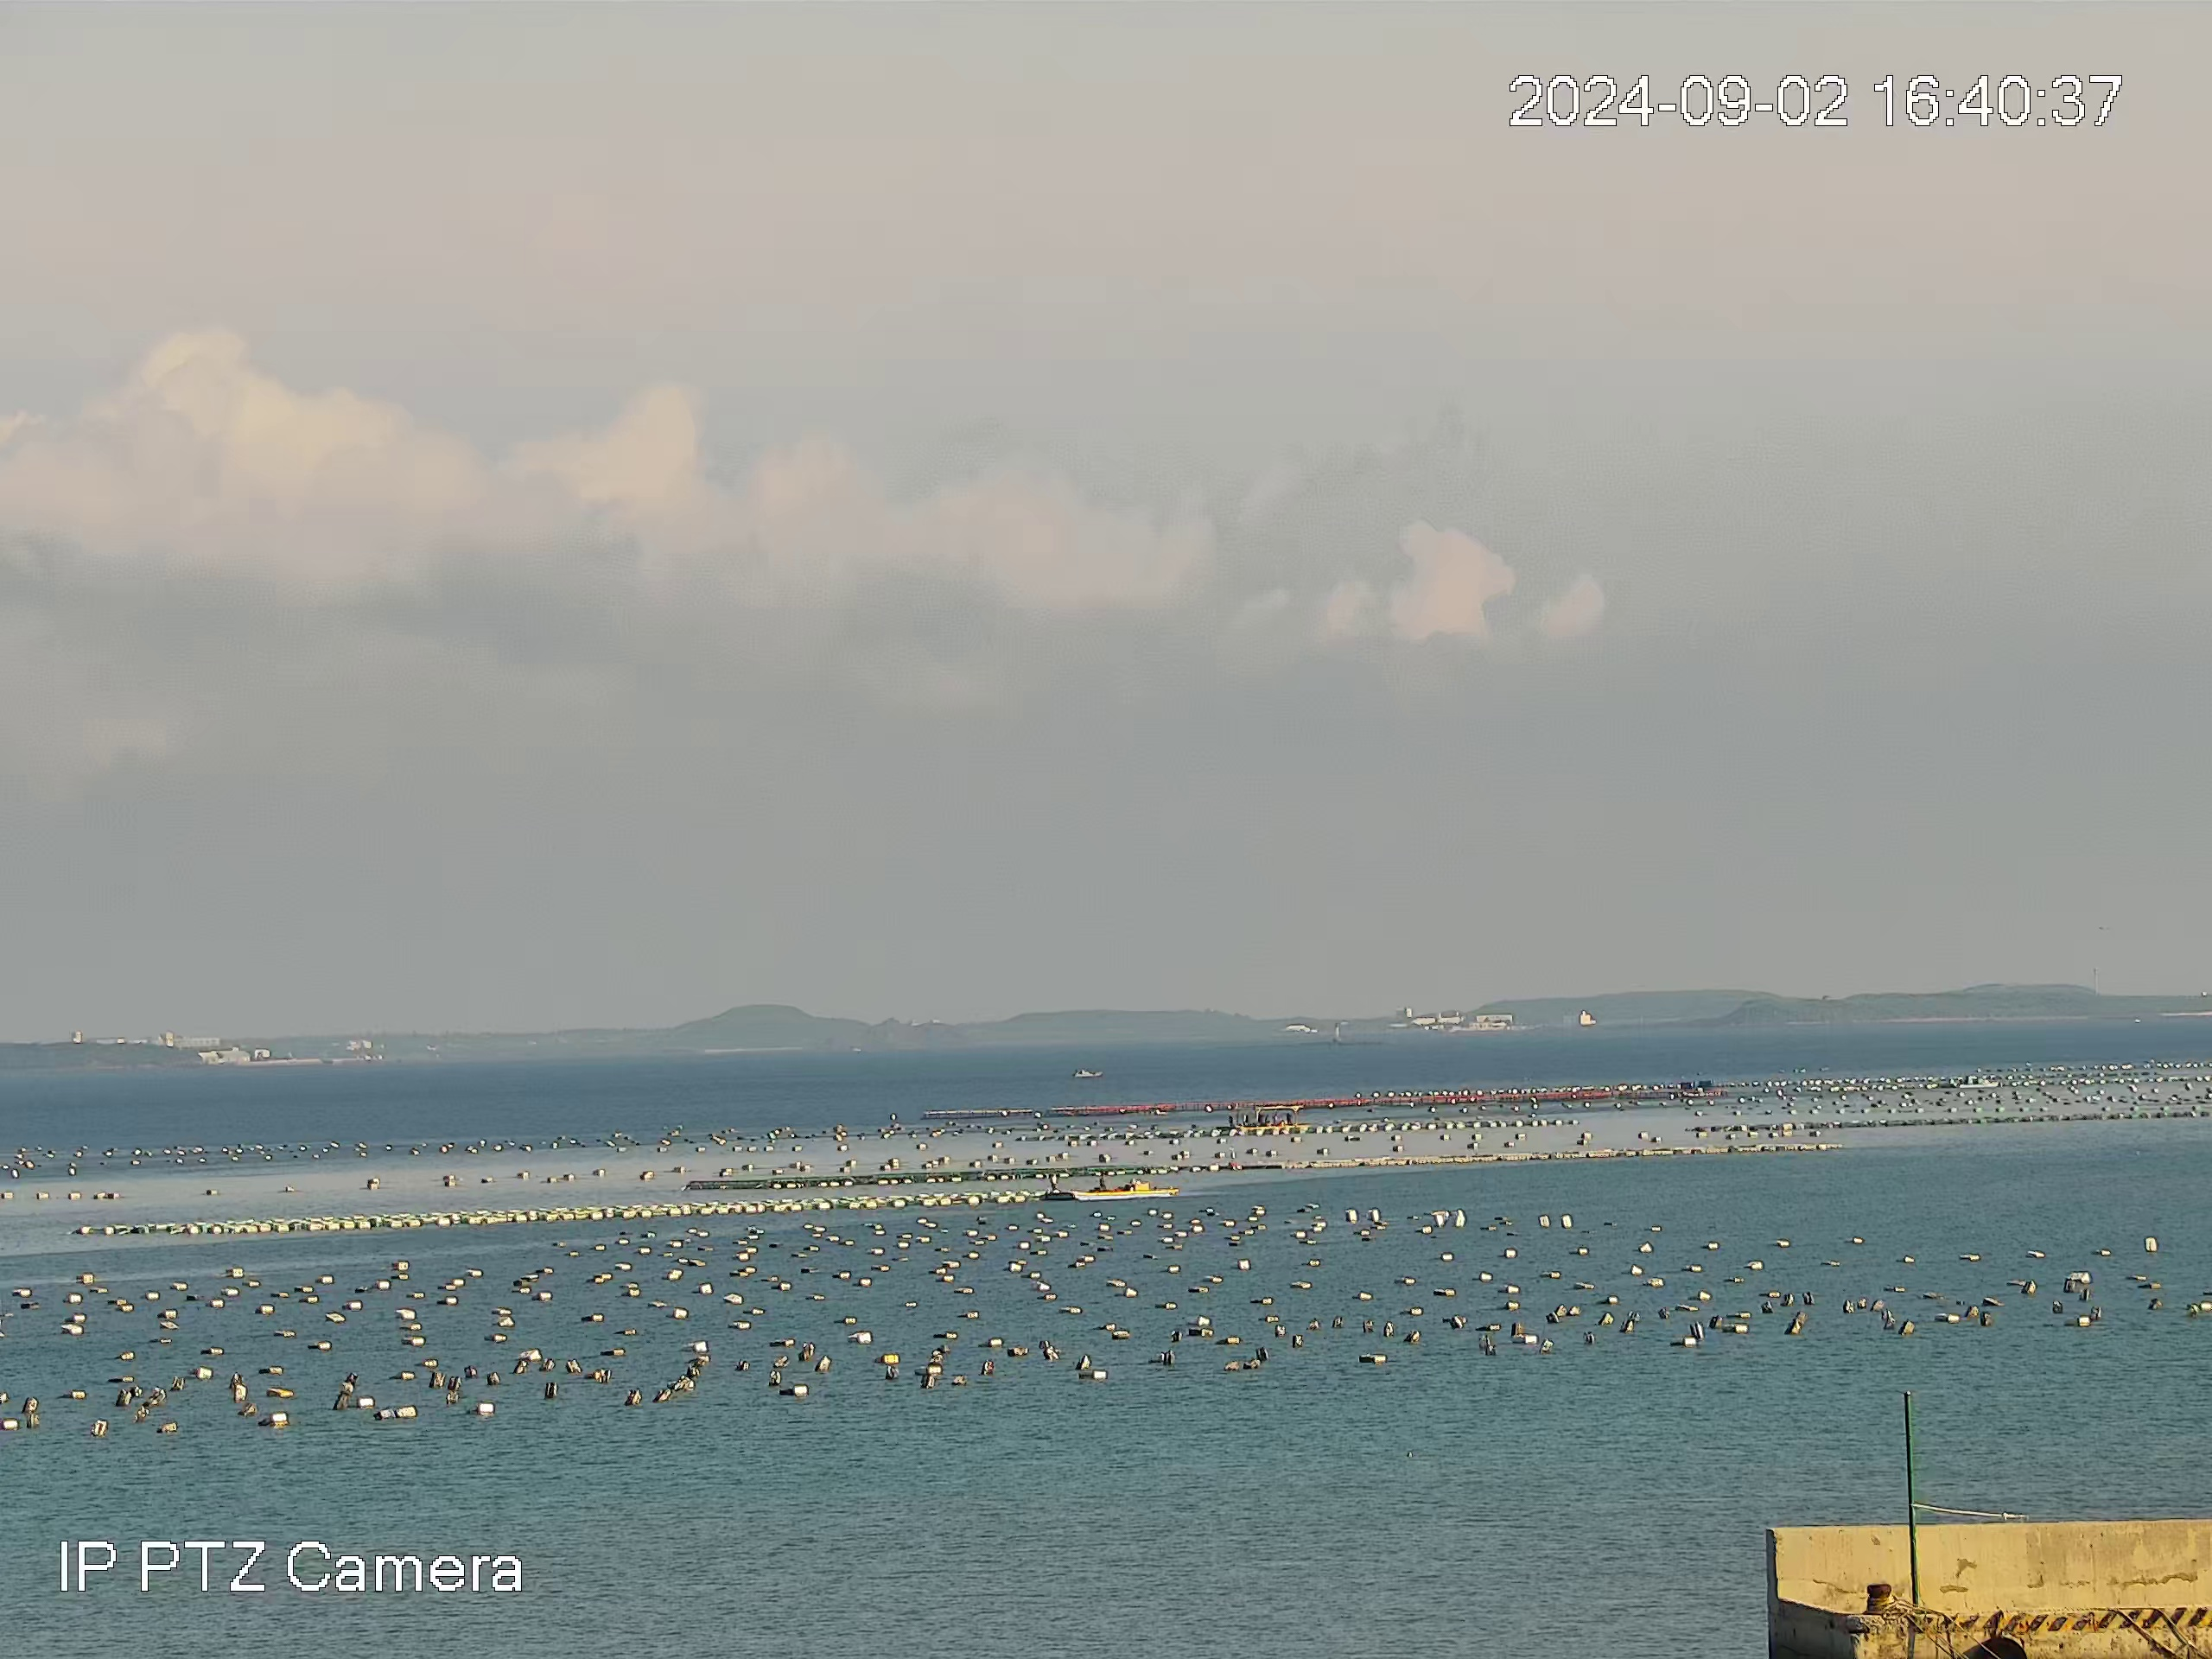boat: (1036, 1171, 1181, 1202), (1231, 1101, 1313, 1131), (1958, 1073, 2000, 1089), (1071, 1068, 1104, 1077)
